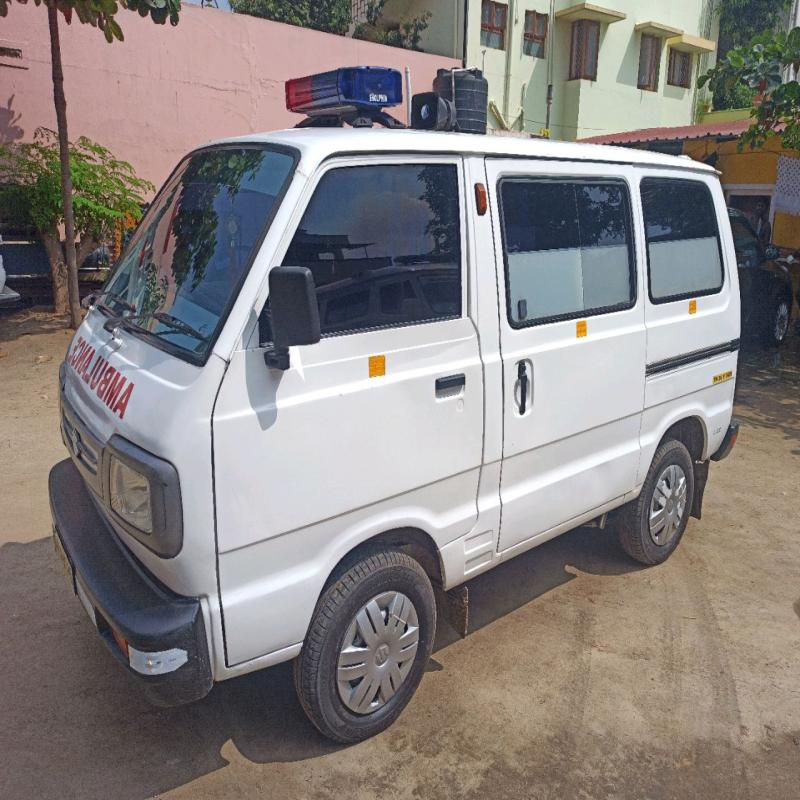ambulance: (35, 42, 750, 692)
